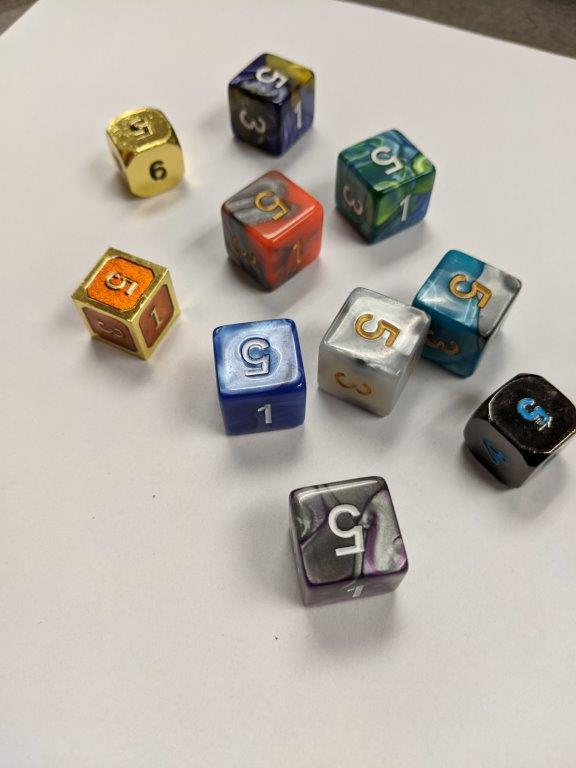d6-5: (291, 473, 406, 613), (320, 288, 427, 422), (409, 244, 521, 372), (68, 245, 181, 364), (467, 370, 573, 493), (223, 171, 324, 293), (336, 128, 437, 243), (209, 317, 307, 432), (229, 49, 319, 155), (105, 108, 188, 203)
